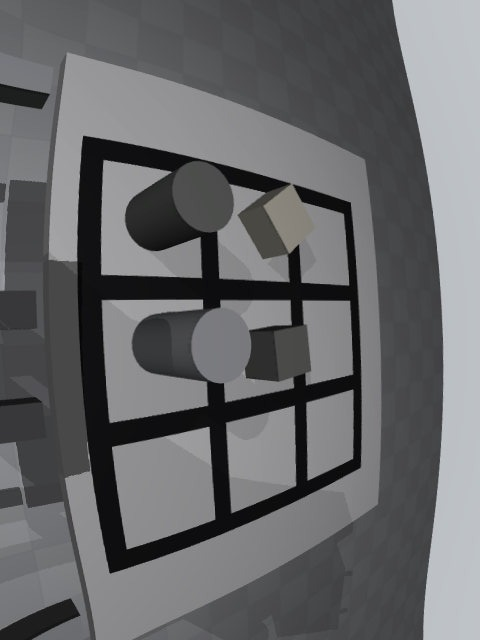can: (132, 308, 251, 384)
cube: (245, 324, 311, 382)
cylinder: (125, 161, 234, 251)
foam: (238, 184, 315, 259)
